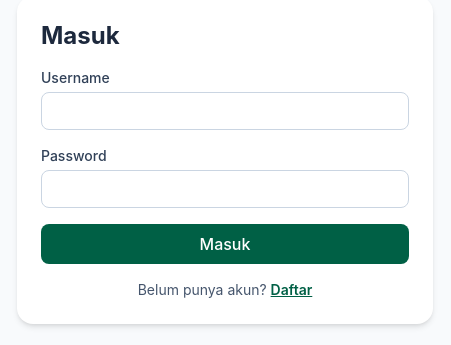
LoginPage › menonaktifkan tombol selama proses
Type "a" into the field with id "login-username" at (225, 111), box [41, 92, 409, 130]
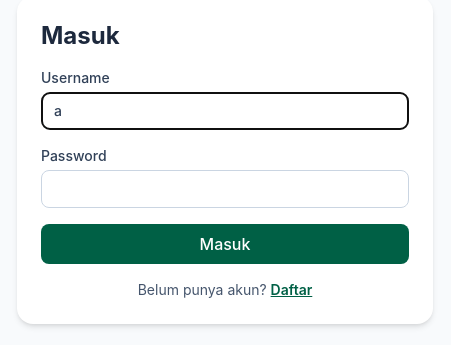
Type "b" into the password field with id "login-password" at (225, 189), box [41, 170, 409, 208]
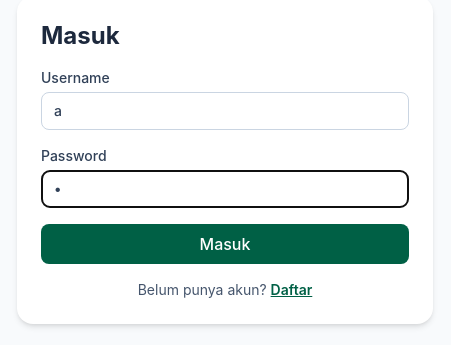
Click the button with id "login-submit" at (225, 244), box [41, 224, 409, 264]
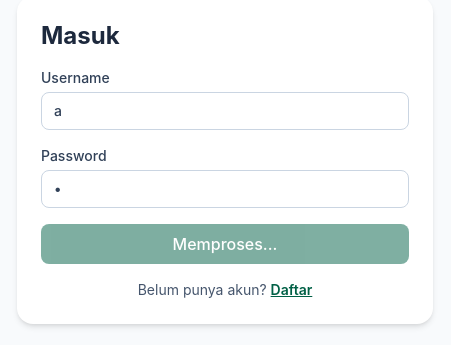
Result: the button with id "login-submit" is disabled at [41, 224, 409, 264]
